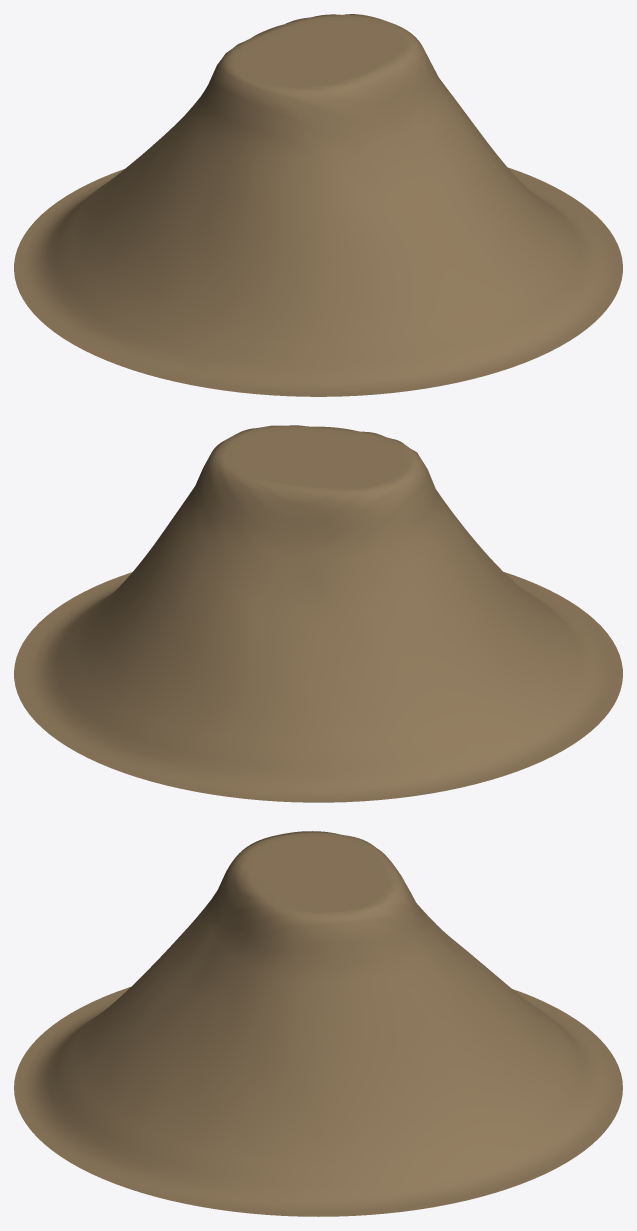
Rendered from hill-v4.3.glb.
The picture shows the model from 3 angles, top to bottom: view 1: azimuth 30°, elevation 25°; view 2: azimuth 150°, elevation 25°; view 3: azimuth 270°, elevation 25°; orthographic projection.
Visible parts, largest first — view 1: hill_v4_3; view 2: hill_v4_3; view 3: hill_v4_3.
Part boxes in pixels (<box>): hill_v4_3: <box>14,14,622,396</box>; hill_v4_3: <box>14,425,622,802</box>; hill_v4_3: <box>14,831,622,1216</box>.
Size of the model in its own units: 2 by 0.78 by 2.
